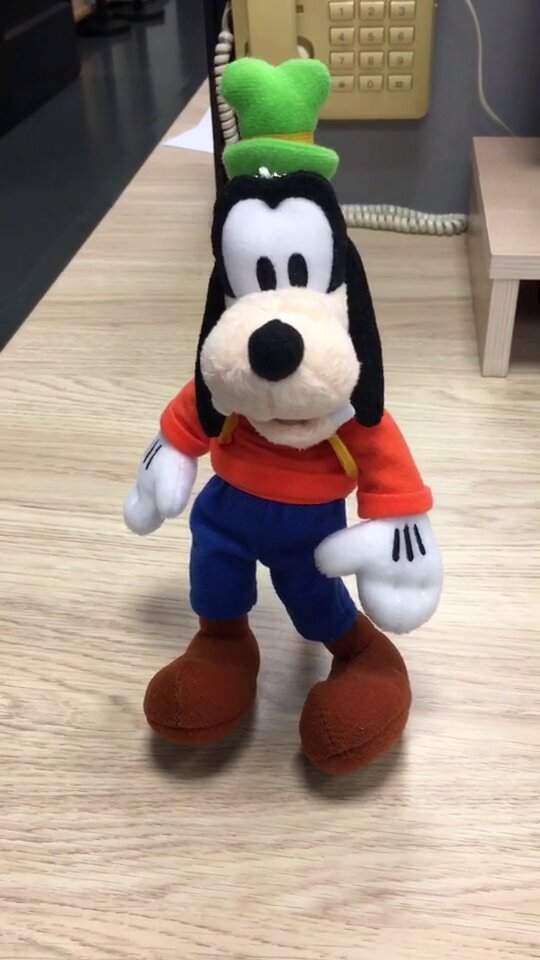goofy: (119, 53, 448, 780)
